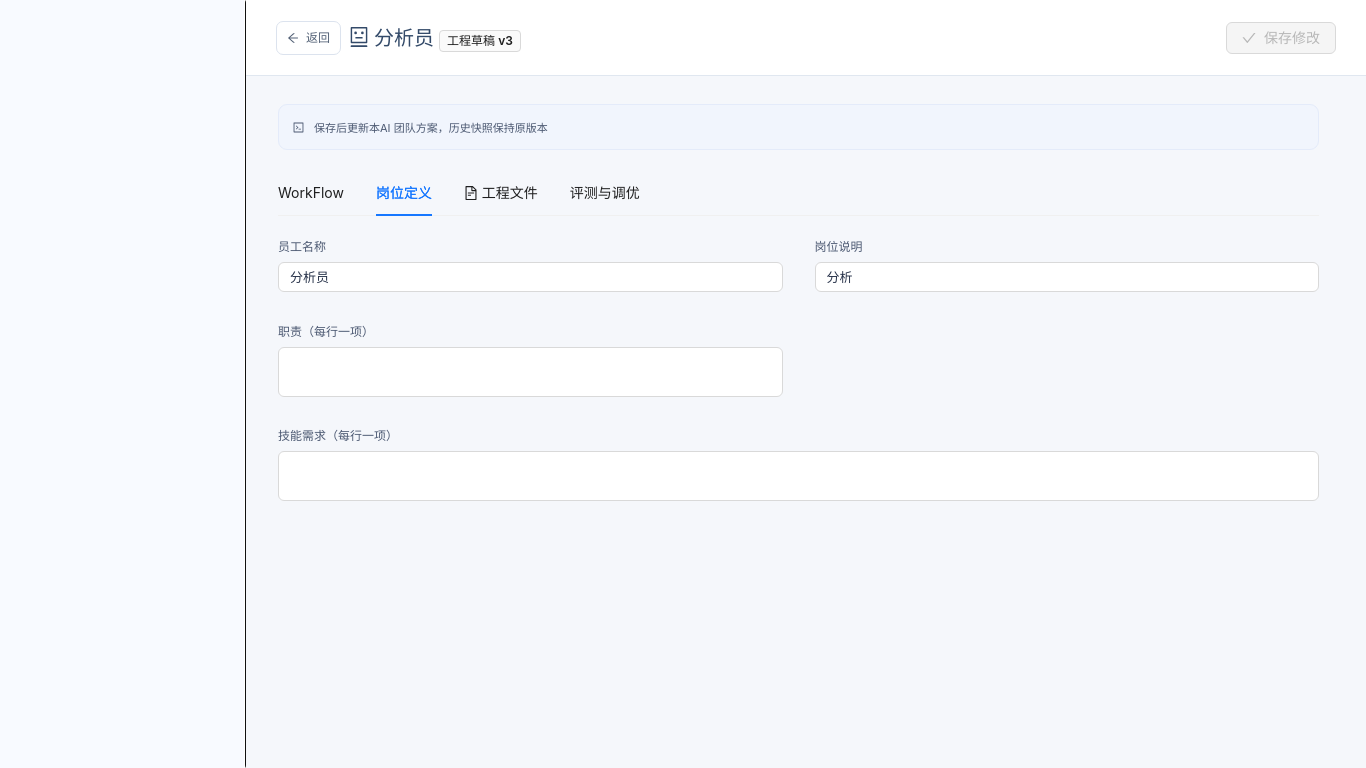
it: 损坏的流程显示错误而非崩溃
Click the tab "WorkFlow" at (311, 193), box [278,182,344,204]
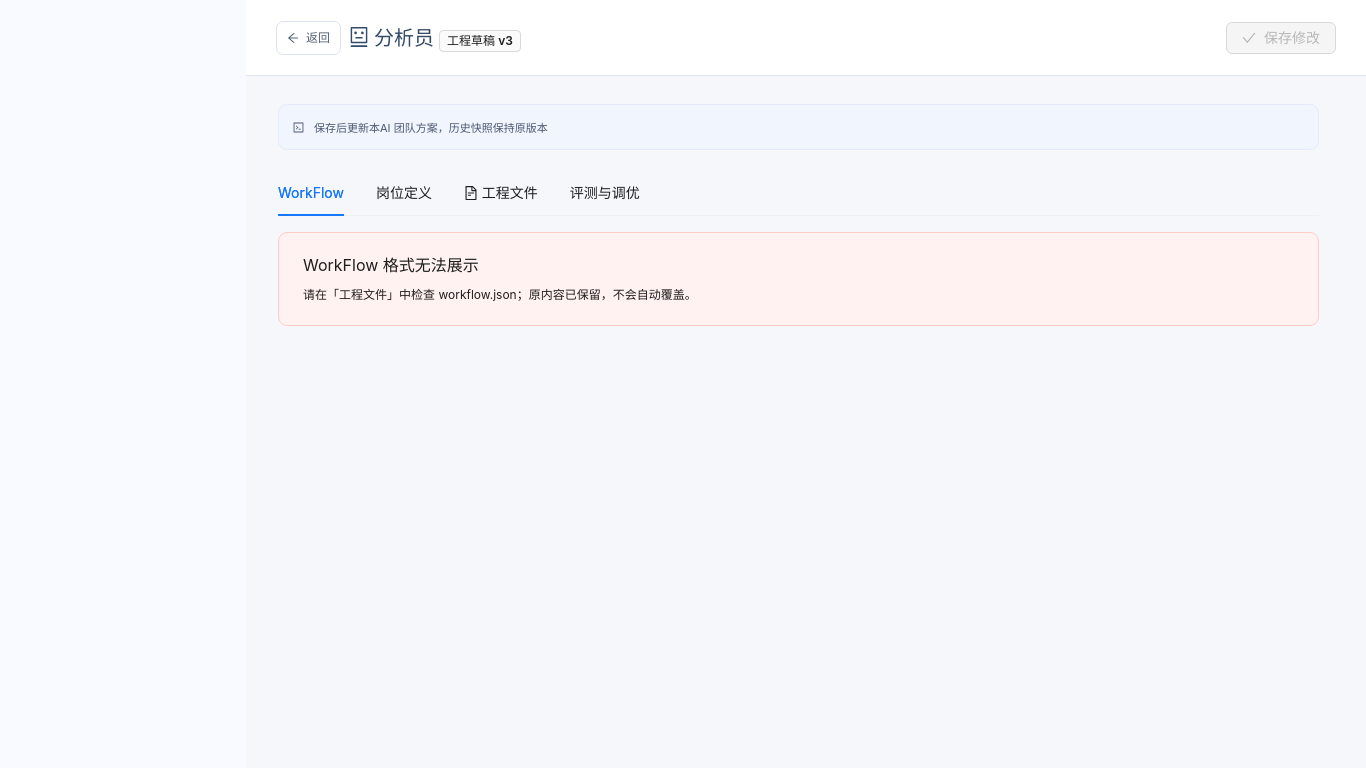
Check: the text "WorkFlow 格式无法展示" is shown, box [303,255,479,275]
